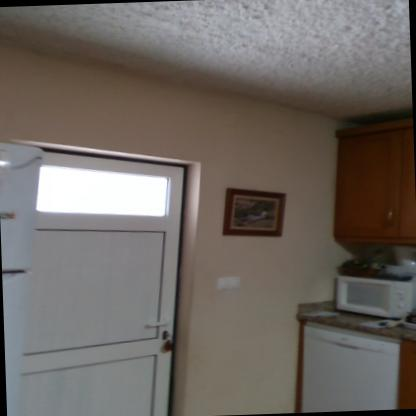closed: (0, 144, 215, 416), (272, 293, 415, 414)
